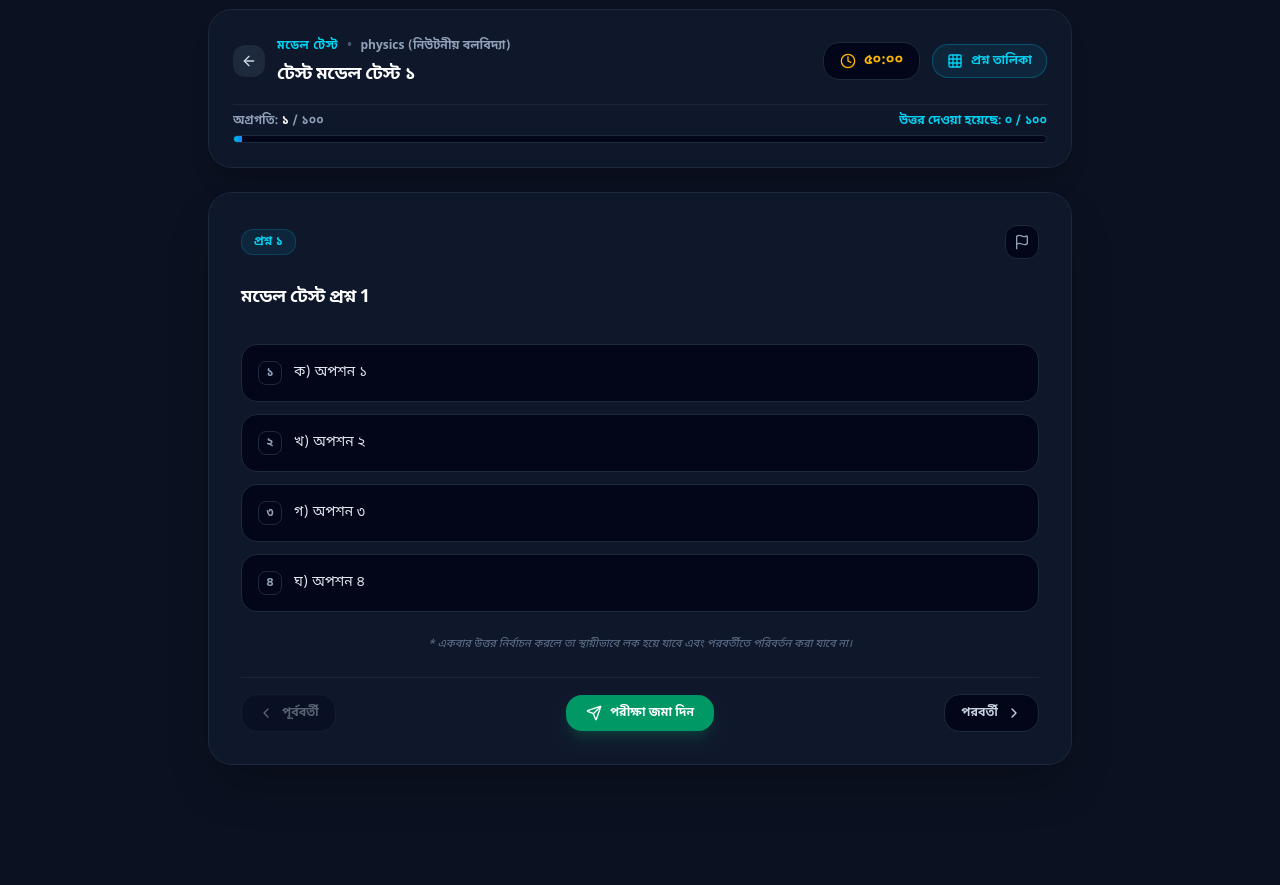
it: Medical Model Test Requirements & Safeguards › 8. Submitting exam reveals score, statistics, and detailed review explanations
The width and height of the screenshot is (1280, 885).
Step 1. Click the button "১ ক) অপশন ১" → (331, 373), box [241,344,1039,402]
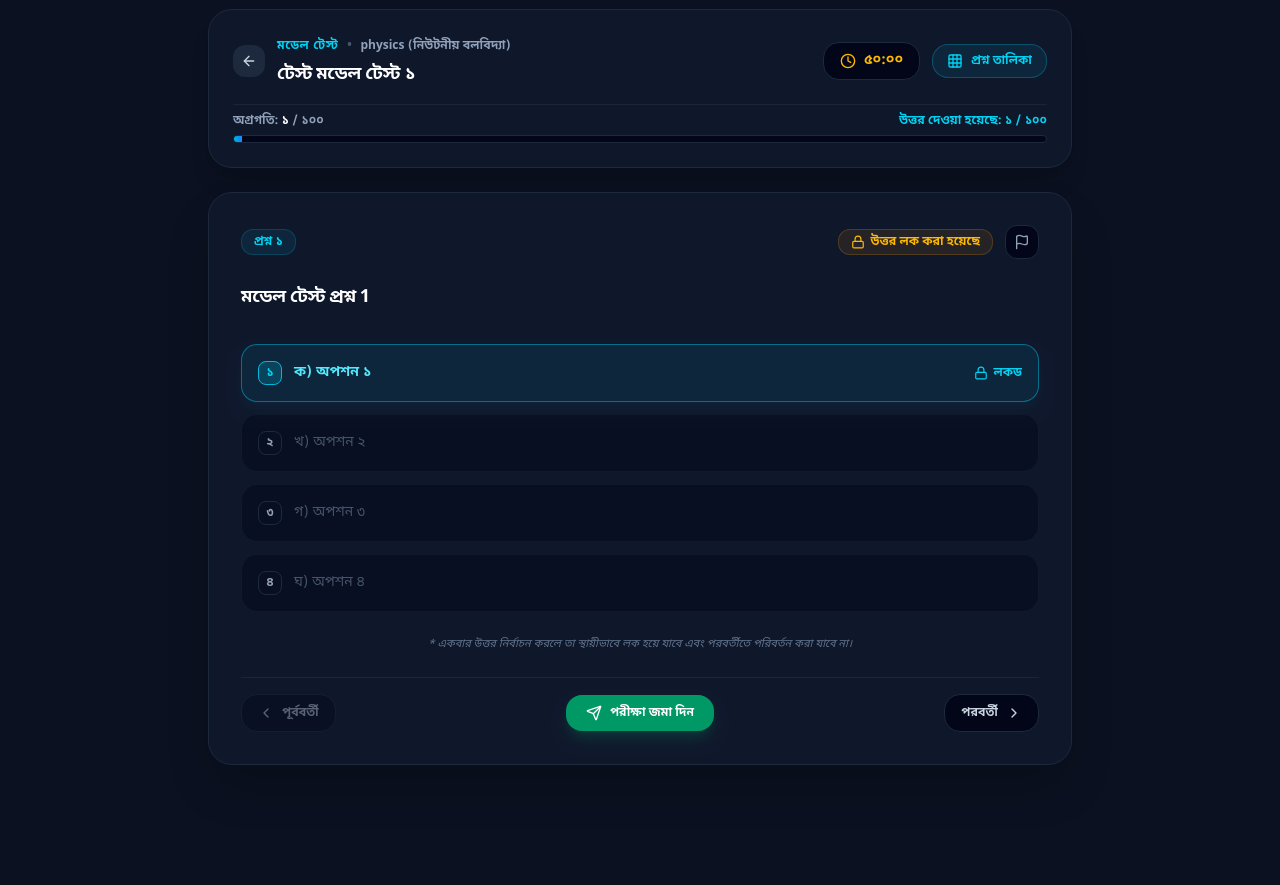
// Open submit modal & confirm
Step 2. Click the button "পরীক্ষা জমা দিন" → (640, 713), box [566,695,714,731]
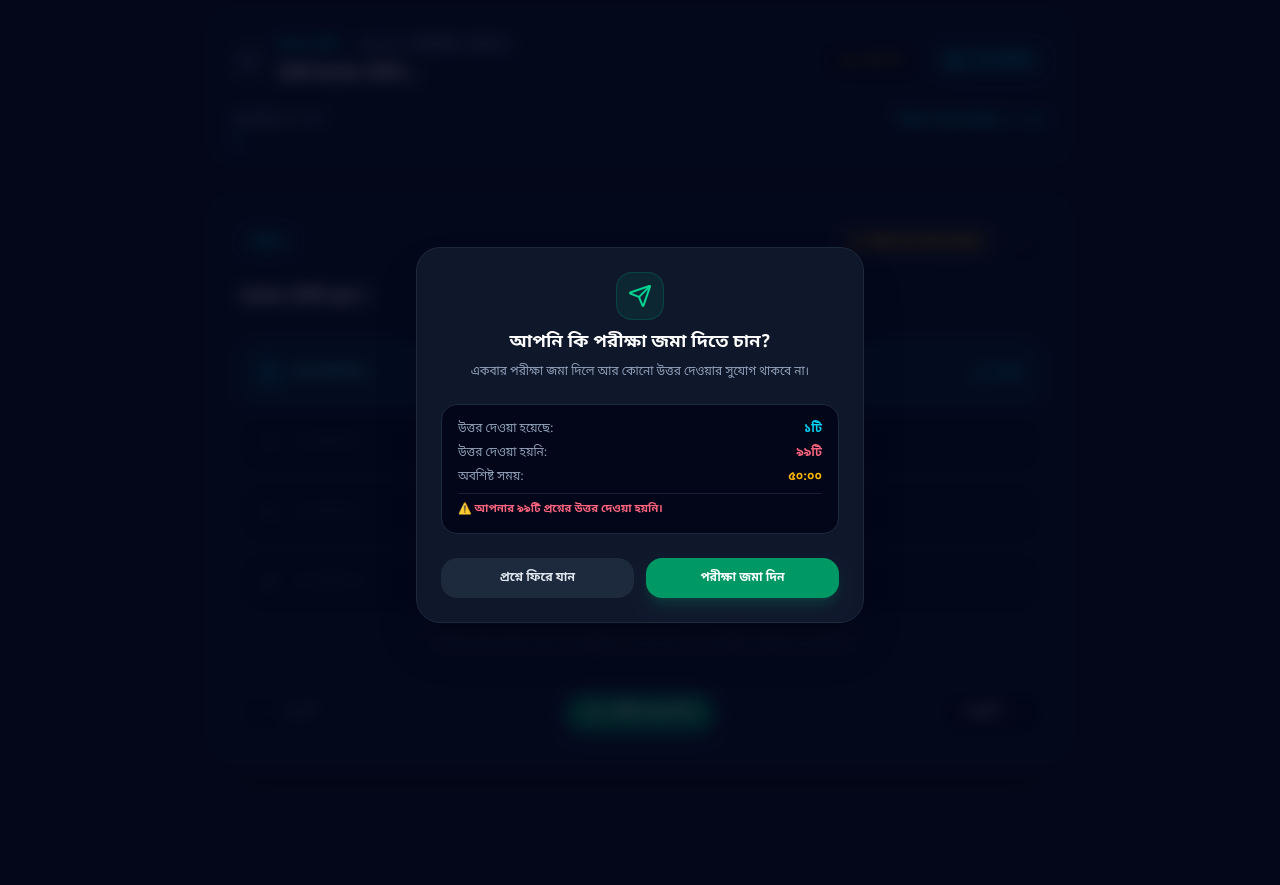
Step 3. Click the button "পরীক্ষা জমা দিন" → (742, 578), box [646,558,839,598]
(page scrolled)
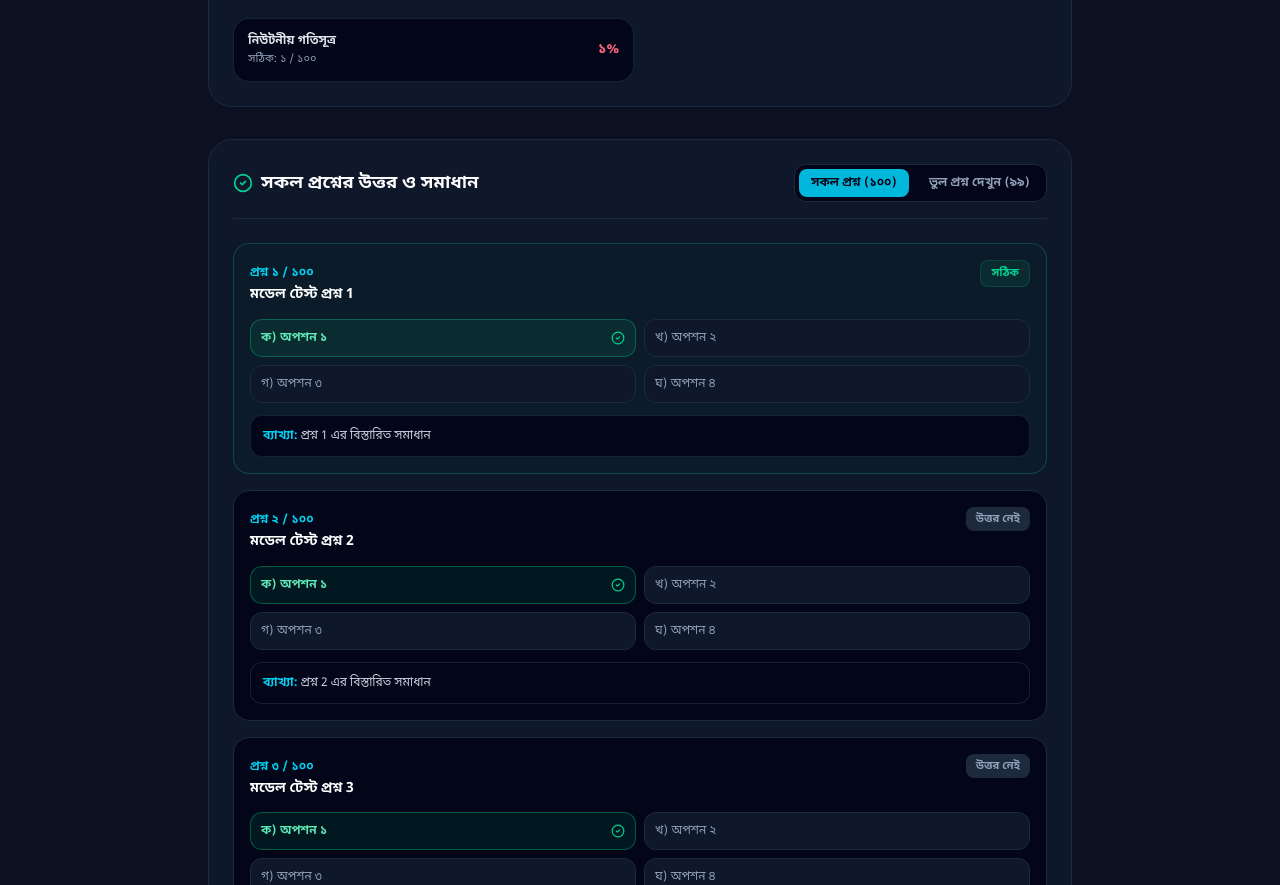
Check: the text "সকল প্রশ্নের উত্তর ও সমাধান" is shown, box [261,169,479,197]
Check: the text "প্রশ্ন 1 এর বিস্তারিত সমাধান" is shown, box [301,428,431,444]
